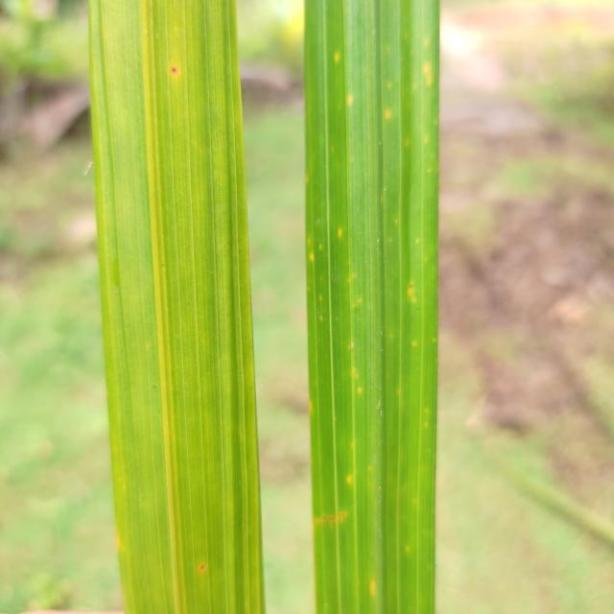nitrogen: (86, 0, 262, 614), (296, 0, 436, 614)
